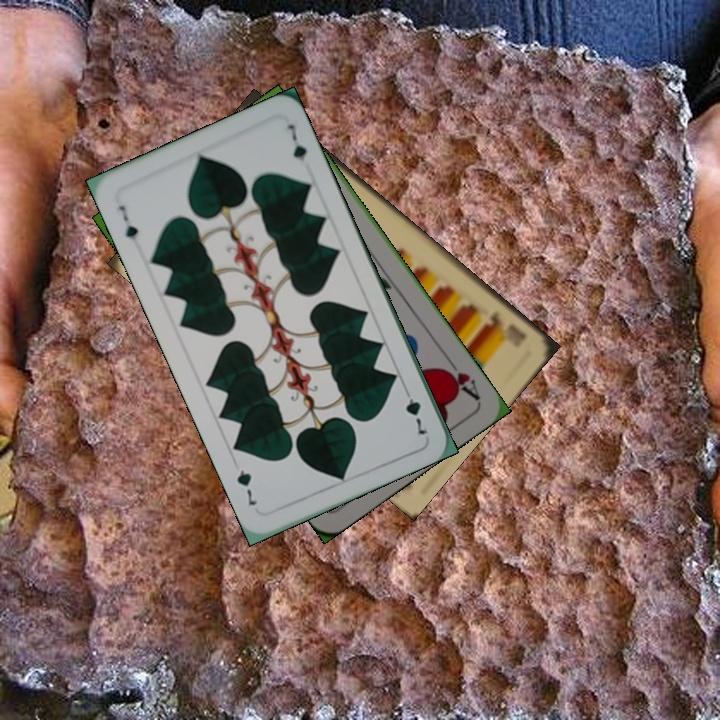E10: (481, 307, 529, 344)
G7: (399, 383, 431, 440), (114, 201, 141, 243)
HA: (437, 352, 483, 403)
